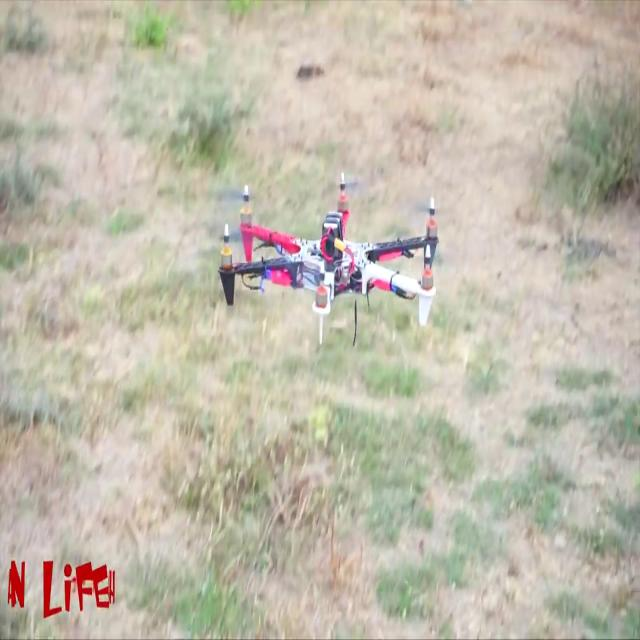drone: (204, 164, 462, 371)
